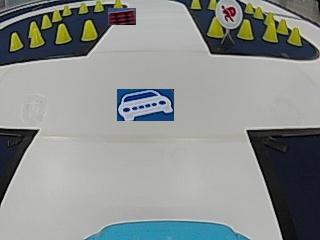thief: (214, 0, 243, 28)
